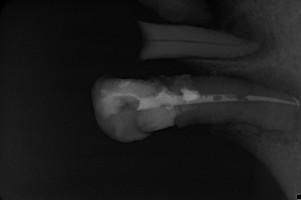Furcation Involvement: (181, 0, 276, 60), (220, 66, 301, 97), (255, 107, 301, 143)
